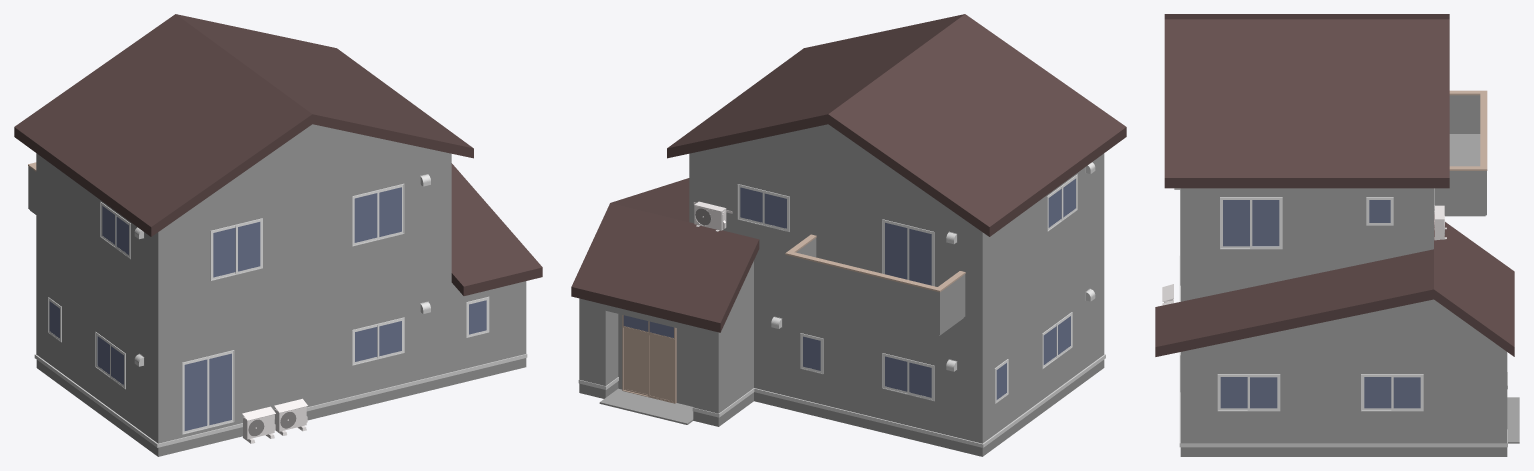
Rendered from MobHouse65.fbx.
The picture shows the model from 3 angles, left to right: view 1: azimuth 30°, elevation 25°; view 2: azimuth 150°, elevation 25°; view 3: azimuth 270°, elevation 25°; orthographic projection. The views are drawn at different scales.
Parts seen in each view (by area): view 1: Flat_half_house02.024; view 2: Flat_half_house02.024; view 3: Flat_half_house02.024.
Part boxes in pixels (left/top/right/bottom): Flat_half_house02.024: left=14, top=14, right=542, bottom=456; Flat_half_house02.024: left=571, top=14, right=1126, bottom=456; Flat_half_house02.024: left=1155, top=14, right=1519, bottom=456.
Bounding box in the file's own units: 9.64 × 7.44 × 7.56.
